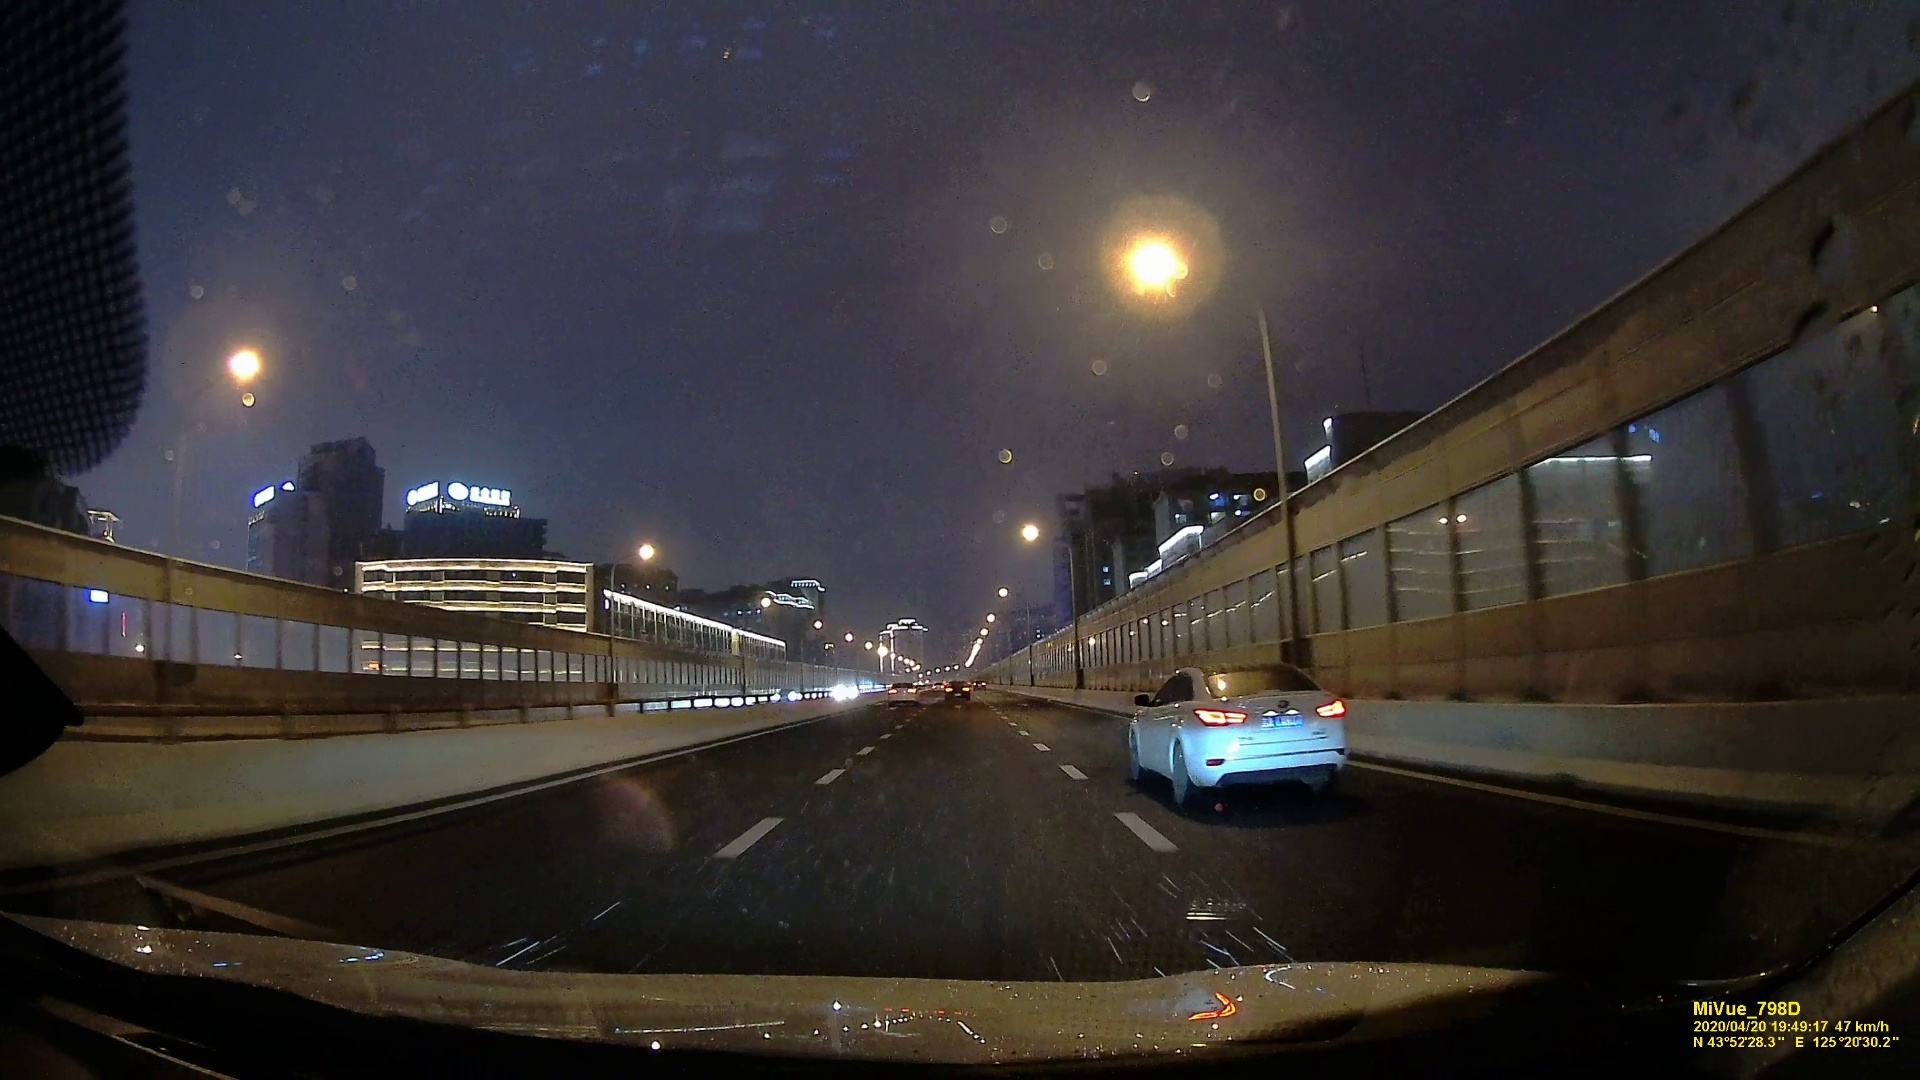vehicle: (1124, 658, 1357, 806), (885, 680, 919, 705), (943, 680, 971, 702)
